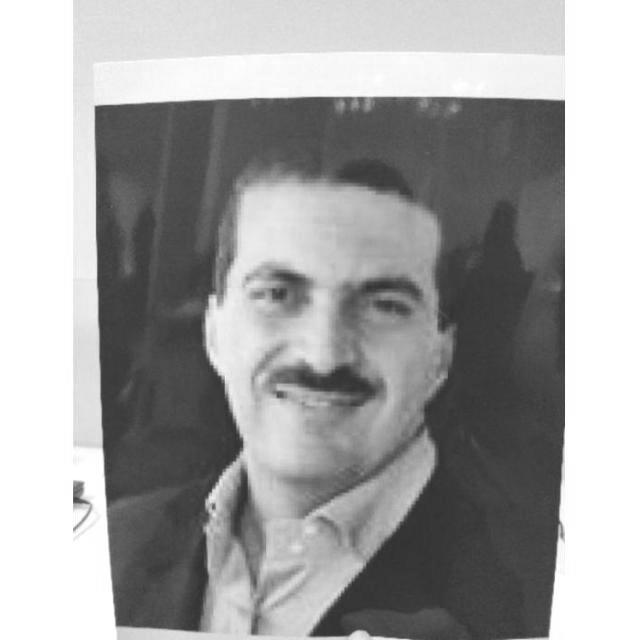fake: (97, 43, 566, 640)
